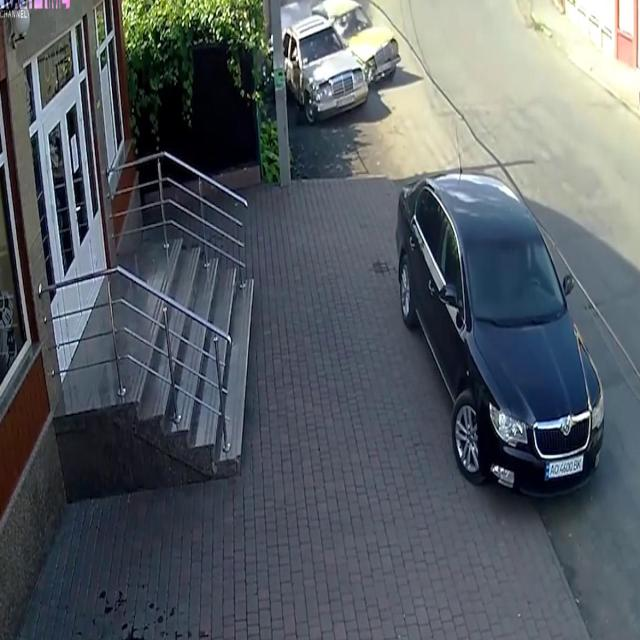accident: (282, 0, 400, 128)
